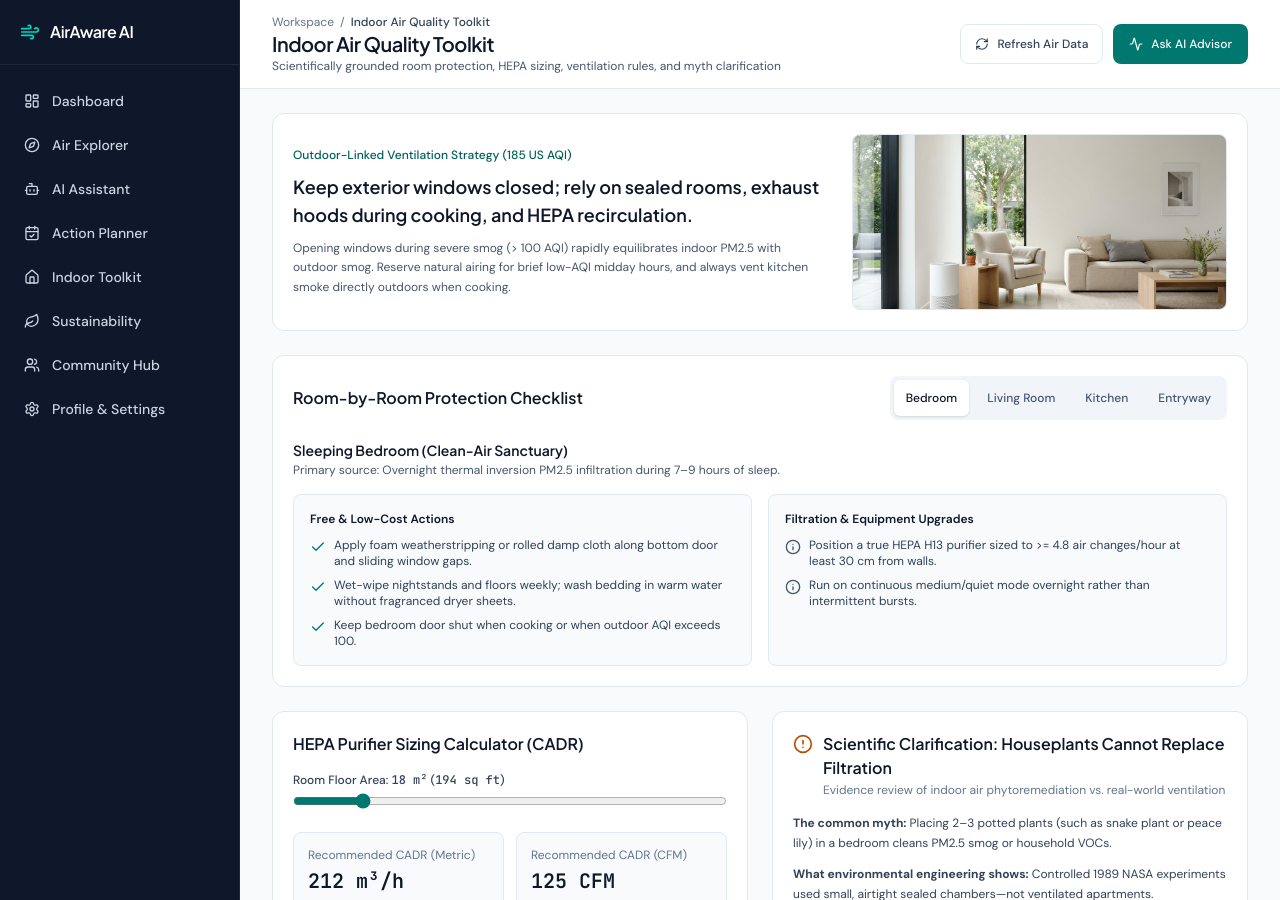
AirAware AI Frontend Components › renders IndoorToolkitPage with interactive room tabs, CADR sizing, and myth clarification
Expected: the heading "HEPA Purifier Sizing Calculator (CADR)" is shown, [293,733,584,754]
Expected: the heading "Scientific Clarification: Houseplants Cannot Replace Filtration" is shown, [823,732,1227,780]
Click the tab "Kitchen" at (1107, 398), box [1073,380,1140,416]
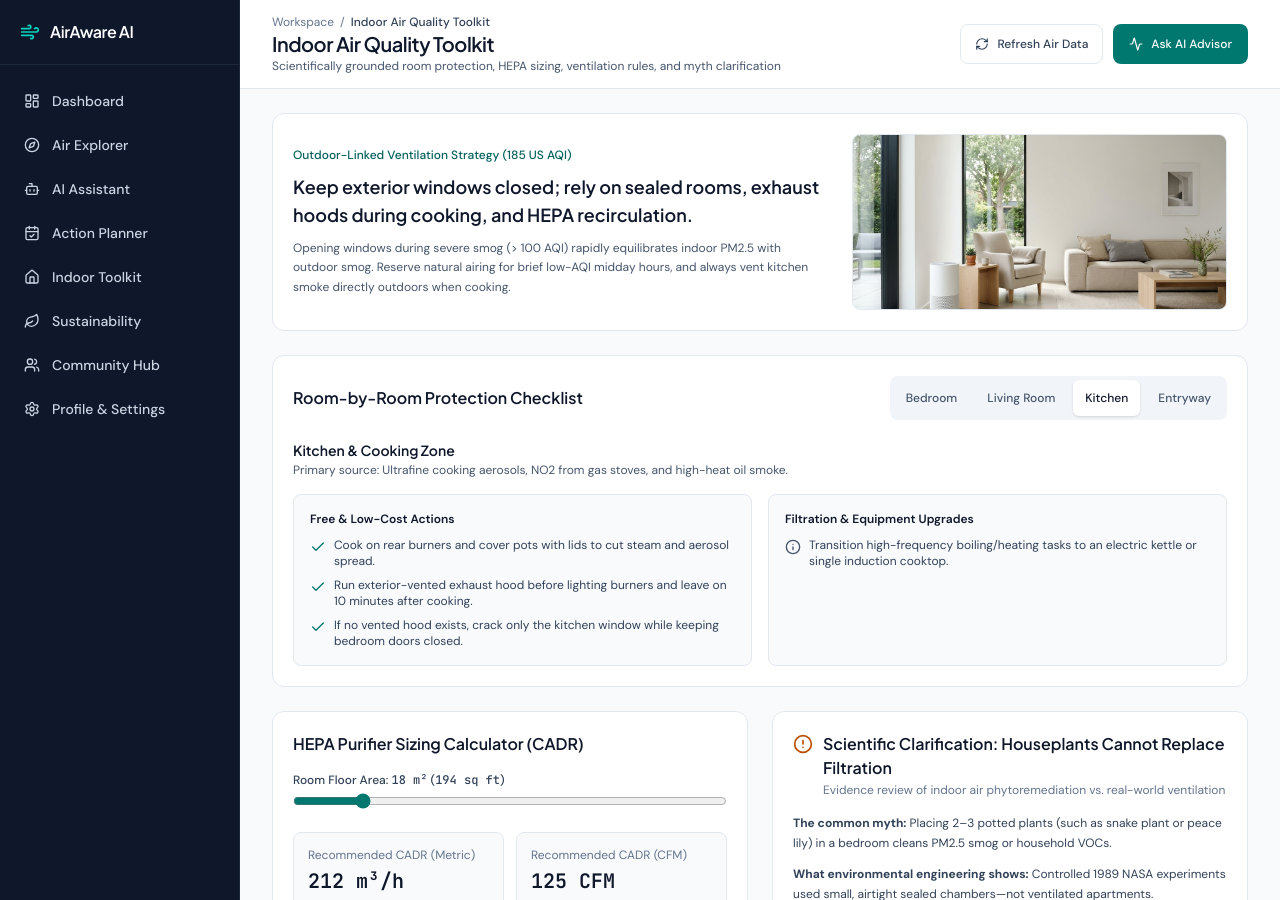
Result: the heading "Kitchen & Cooking Zone" is shown at [293,441,455,459]
Set the slider labelled "Room Floor Area: 18 m² (194 sq ft)" to "35" at (469, 801), box [293,793,727,809]
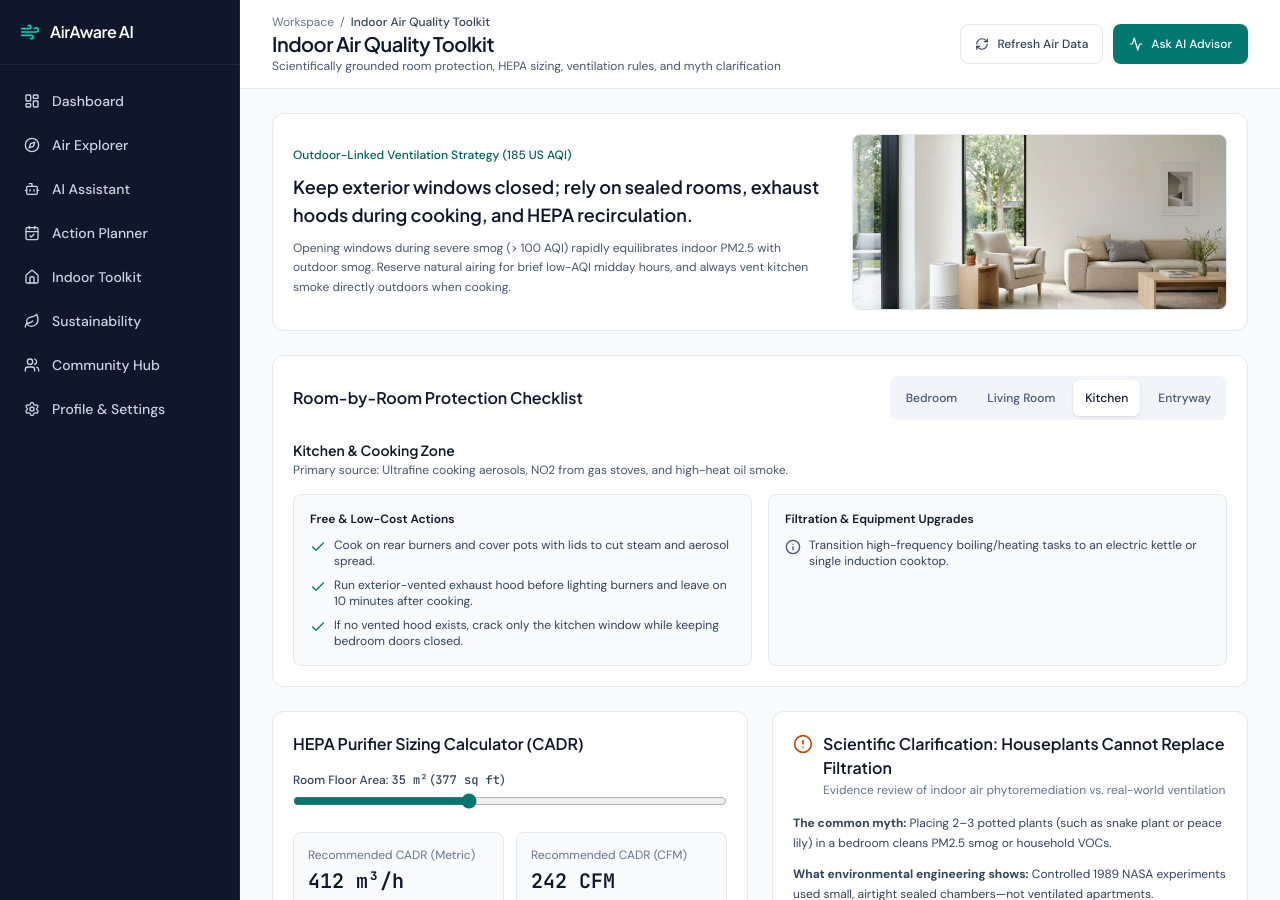
Result: the text "412 m³/h" is shown at [308,868,404,894]
